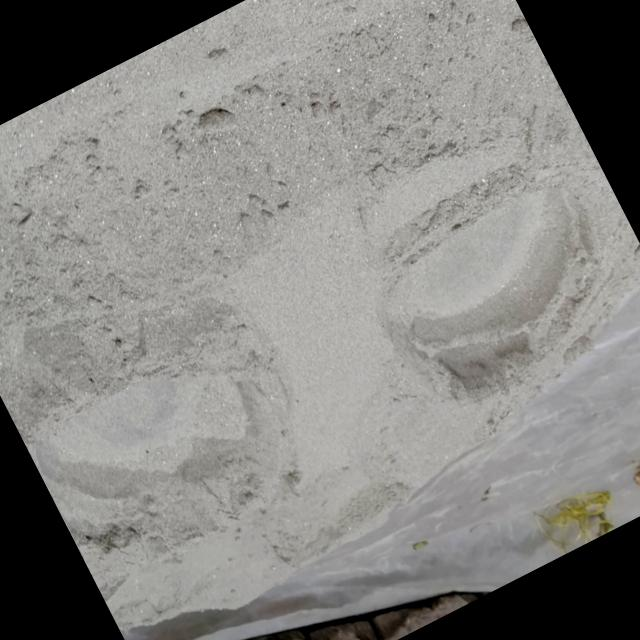C20: (384, 189, 605, 400), (34, 374, 260, 560)
